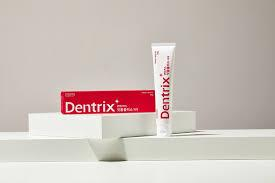toothpaste: (145, 39, 175, 139)
